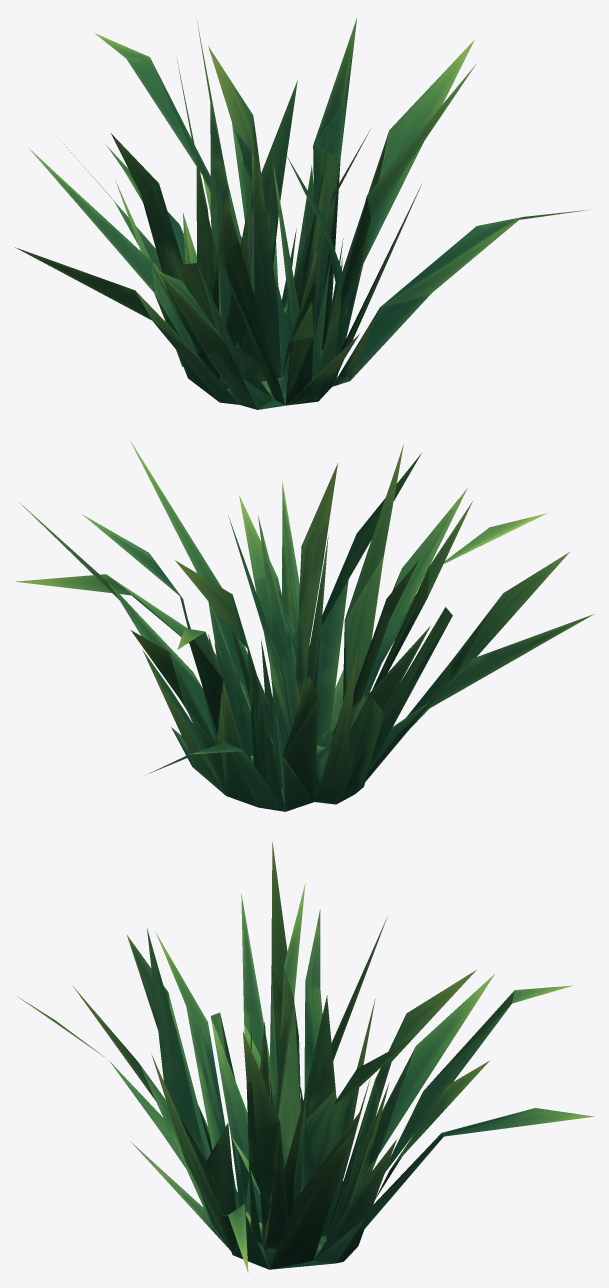
File: grass_1.glb
3 views of the same model, one above another, from view 1: azimuth 30°, elevation 25°; view 2: azimuth 150°, elevation 25°; view 3: azimuth 270°, elevation 25° (orthographic). The views are drawn at different scales.
Size of the model in its own units: 1.78 by 1.06 by 1.58.
1 material, 1 textured.
